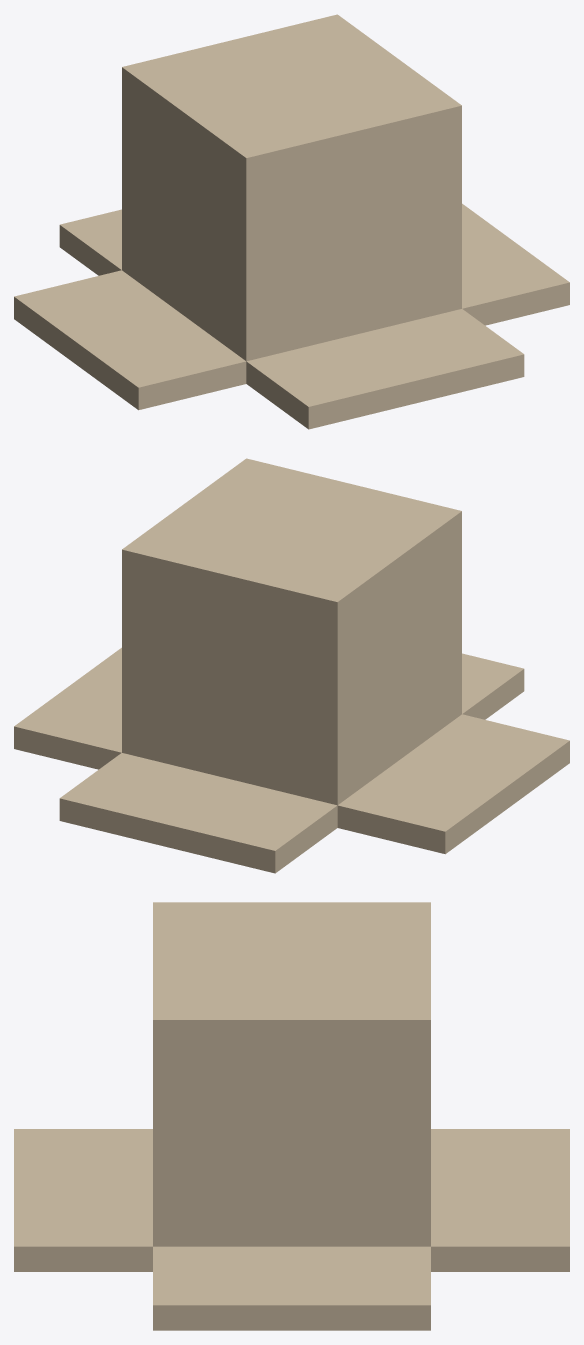
The model's file is cardboardbox.dae.
3 renders of one model, top to bottom at view 1: azimuth 30°, elevation 25°; view 2: azimuth 150°, elevation 25°; view 3: azimuth 270°, elevation 25°, orthographic. The views are drawn at different scales.
Visible parts, largest first — view 1: Cube, Cube_004, Cube_002, Cube_001, Cube_003; view 2: Cube, Cube_003, Cube_002, Cube_001, Cube_004; view 3: Cube, Cube_001, Cube_003, Cube_004.
Part boxes in pixels (x1,y1,x2,y2): Cube: [122, 14, 461, 361]; Cube_004: [246, 309, 524, 429]; Cube_002: [14, 270, 246, 410]; Cube_001: [462, 203, 569, 325]; Cube_003: [59, 209, 121, 275]; Cube: [122, 458, 461, 805]; Cube_003: [59, 753, 337, 873]; Cube_002: [337, 714, 569, 854]; Cube_001: [14, 647, 121, 769]; Cube_004: [462, 653, 524, 719]; Cube: [153, 902, 430, 1246]; Cube_001: [153, 1246, 430, 1330]; Cube_003: [431, 1129, 569, 1271]; Cube_004: [14, 1129, 152, 1271].
Size of the model in its own units: 4 by 4 by 2.
